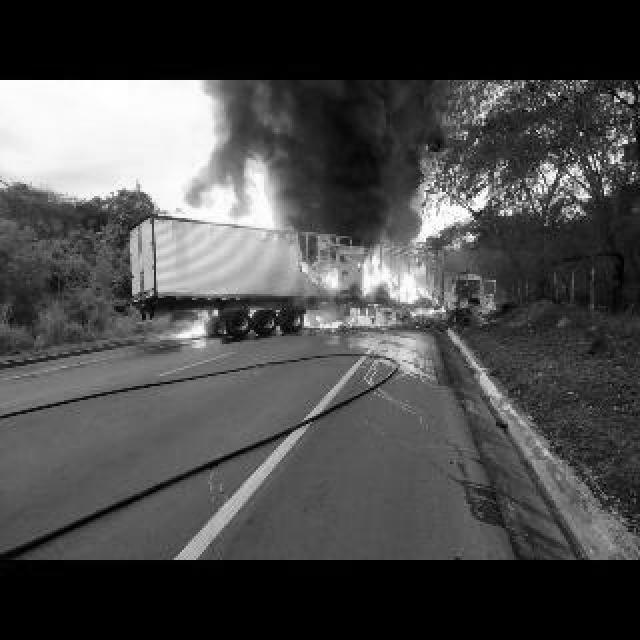Fire: (202, 160, 278, 228), (358, 258, 436, 304), (306, 308, 372, 328), (176, 312, 212, 338), (320, 268, 340, 288), (300, 260, 310, 274), (428, 308, 446, 314)
Smoke: (244, 86, 454, 232)
